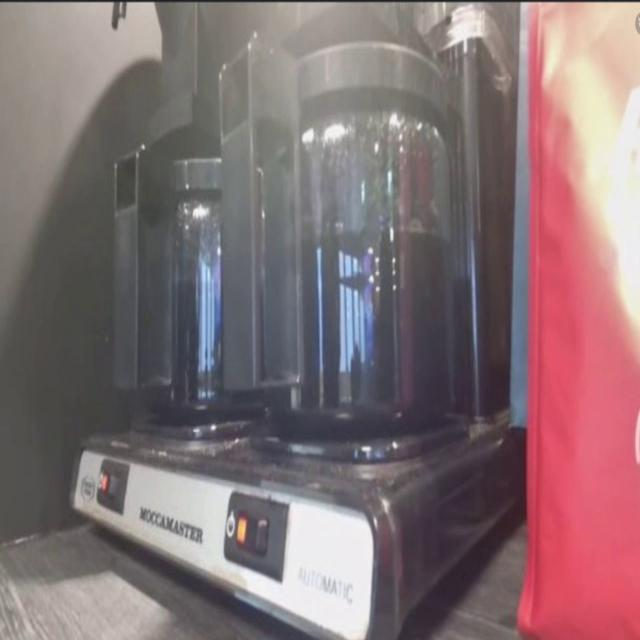coffee: (271, 152, 449, 426), (149, 214, 264, 420)
